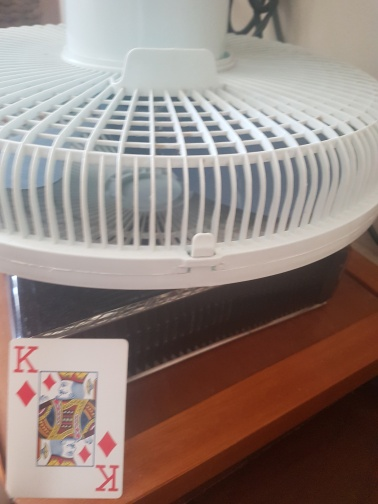king: (5, 336, 128, 499)
